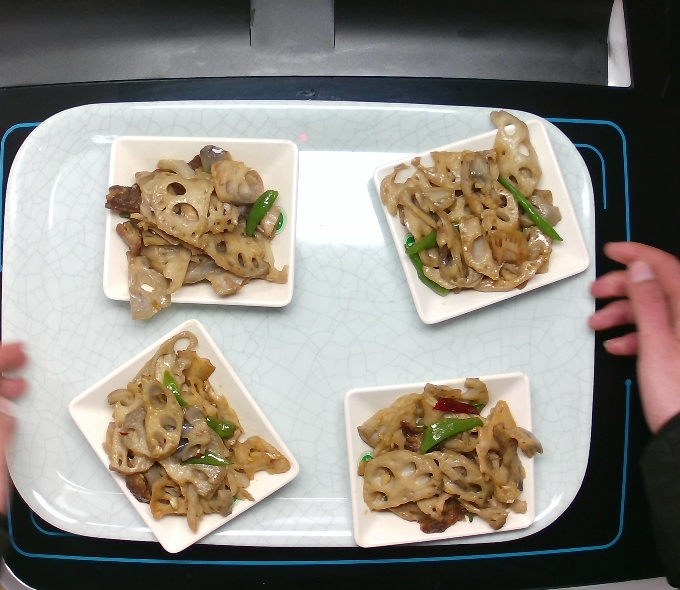wcq-OuPianChaoRou: (97, 326, 296, 538), (373, 108, 568, 307), (96, 139, 298, 331), (351, 372, 548, 542)
